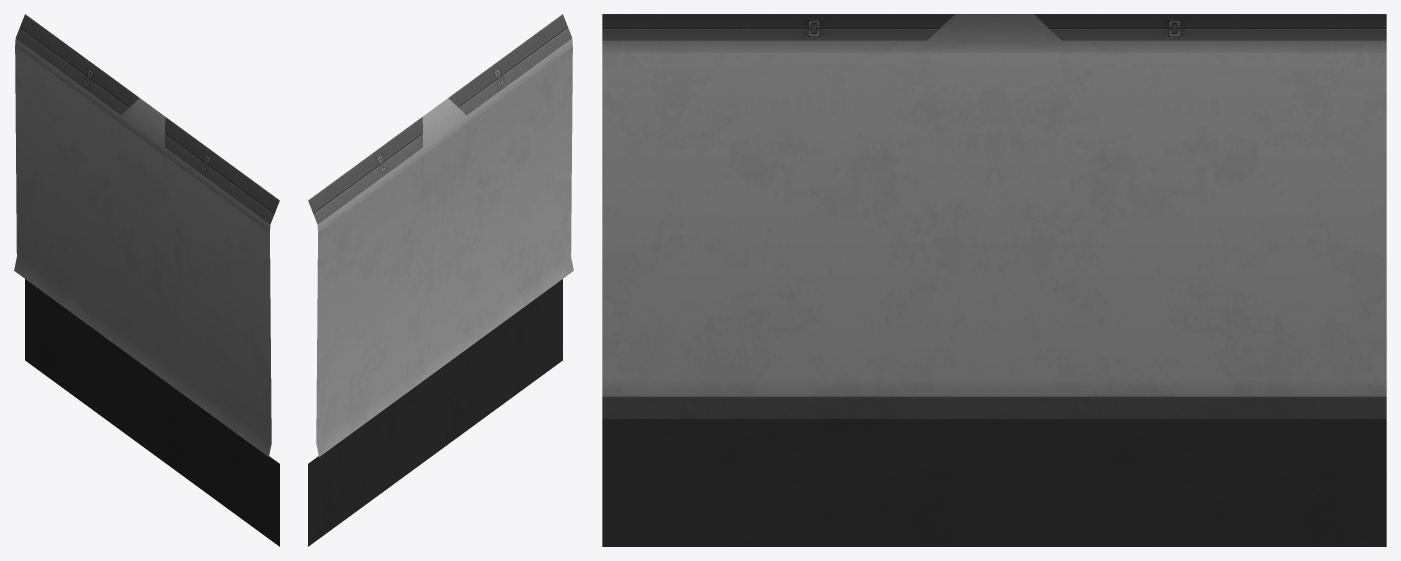
The model's file is WallAstra_Straight_Flat.gltf.
3 views of the same model, side by side, from view 1: azimuth 30°, elevation 25°; view 2: azimuth 150°, elevation 25°; view 3: azimuth 270°, elevation 25° (orthographic). The views are drawn at different scales.
Visible parts, largest first — view 1: WallAstra_Straight_Flat; view 2: WallAstra_Straight_Flat; view 3: WallAstra_Straight_Flat.
Part boxes in pixels (x1,y1,x2,y2): WallAstra_Straight_Flat: (14, 14, 279, 546); WallAstra_Straight_Flat: (308, 14, 573, 546); WallAstra_Straight_Flat: (602, 14, 1386, 546).
Bounding box in the file's own units: 0.1 × 3 × 4.
Materials: 3 (3 with a texture image).
